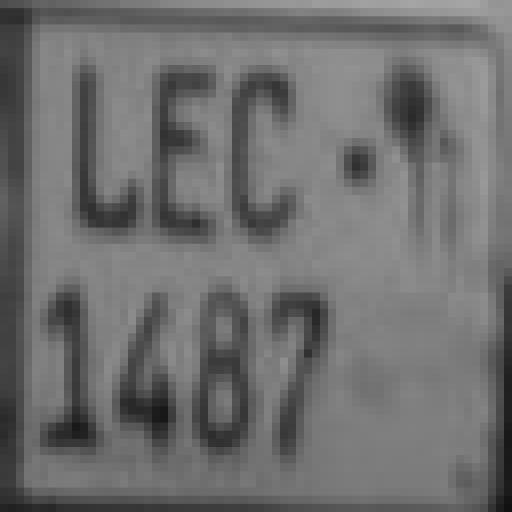1: (39, 278, 107, 457)
4: (113, 280, 175, 459)
7: (266, 284, 330, 467)
8: (186, 284, 257, 456)
C: (224, 54, 296, 241)
E: (146, 58, 224, 239)
L: (64, 61, 144, 231)
